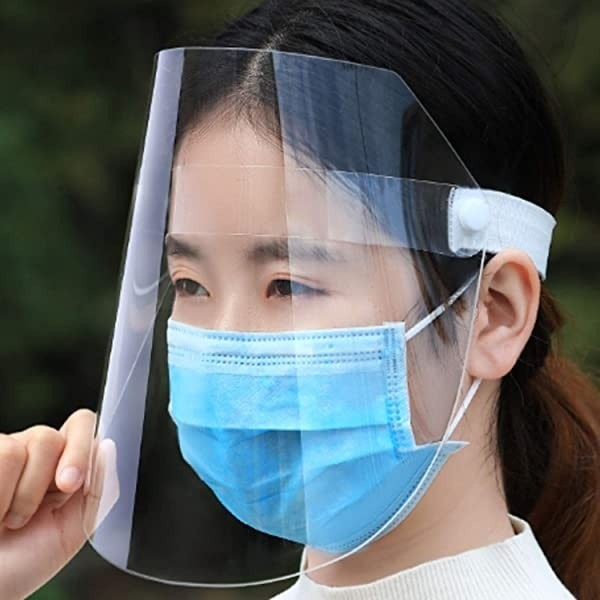face_with_mask: (161, 9, 543, 558)
